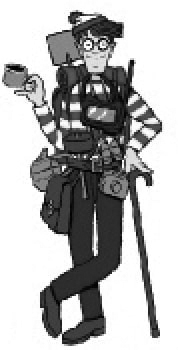Waldo: (1, 5, 163, 343)
